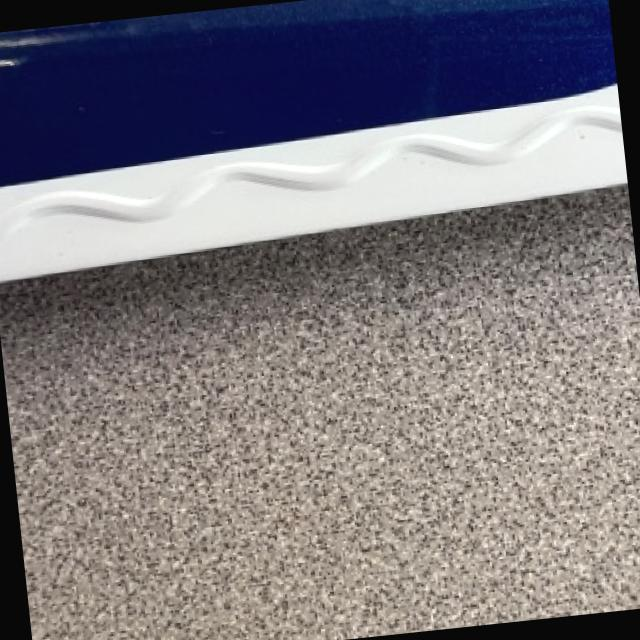healthy: (0, 83, 627, 281)
